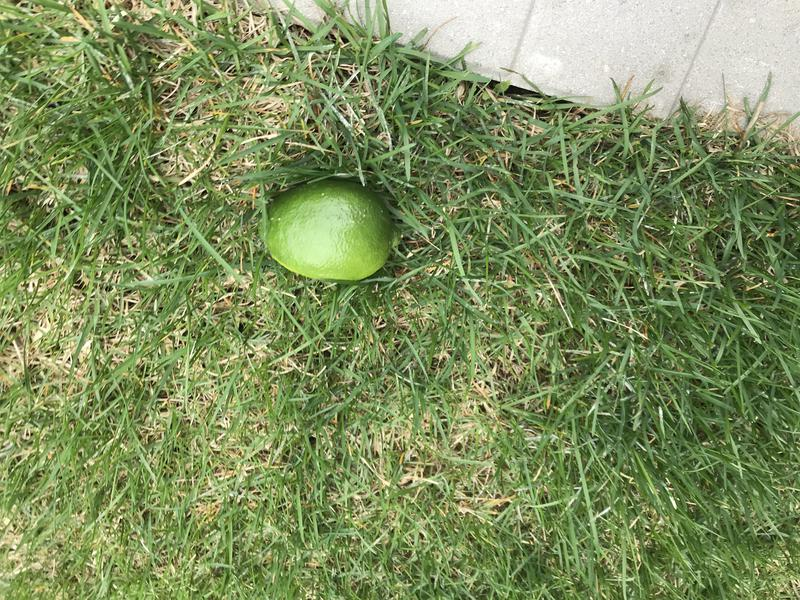lime: (255, 168, 414, 293)
